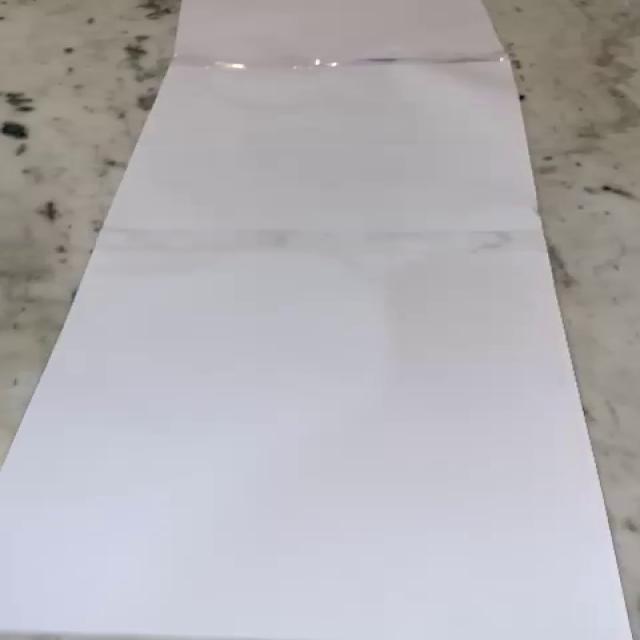road: (3, 0, 631, 640)
